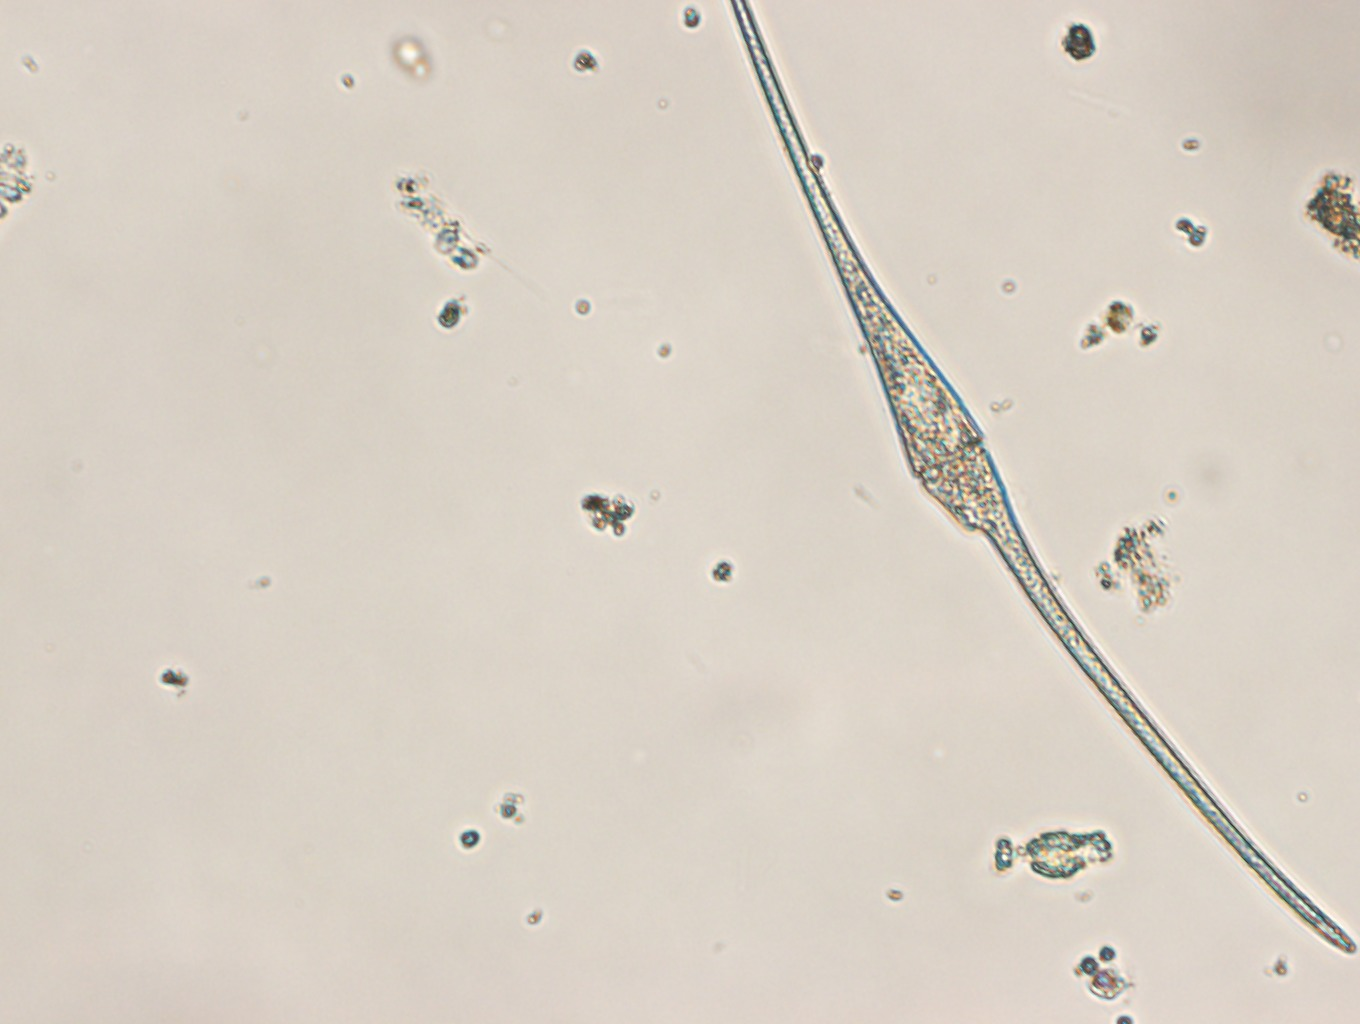ceratium fusus: (726, 1, 1360, 958)
